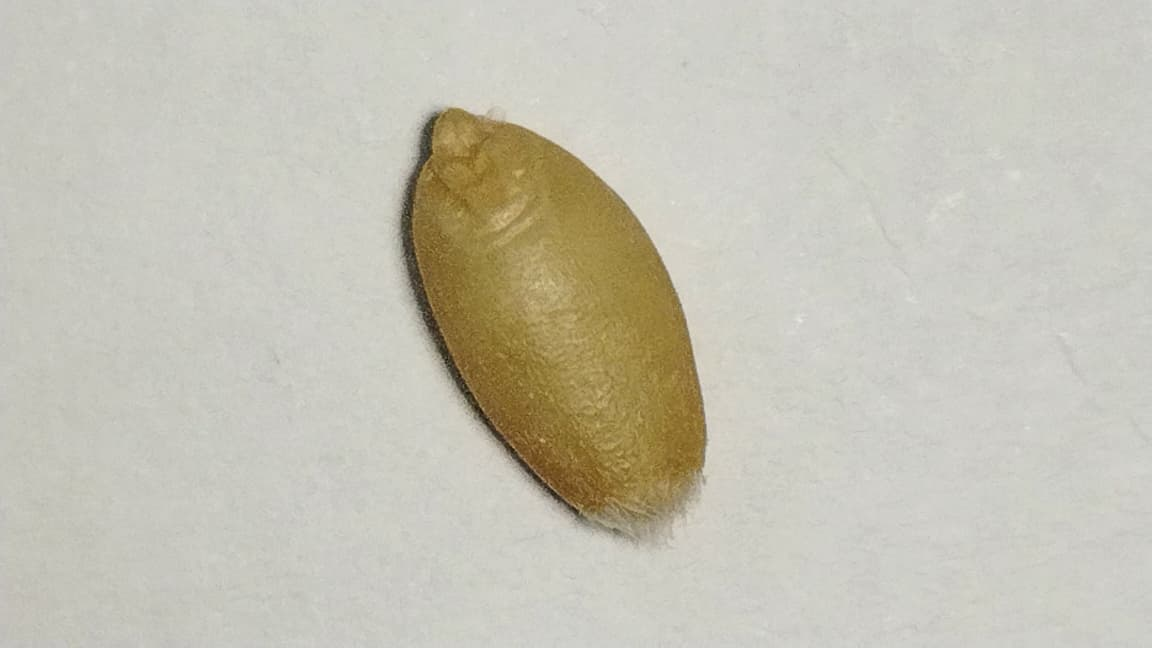healthy: (412, 109, 705, 514)
